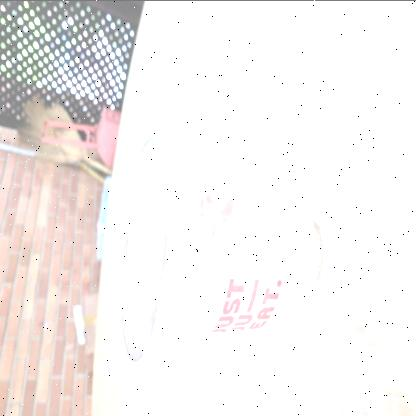Others: (118, 130, 326, 368)
